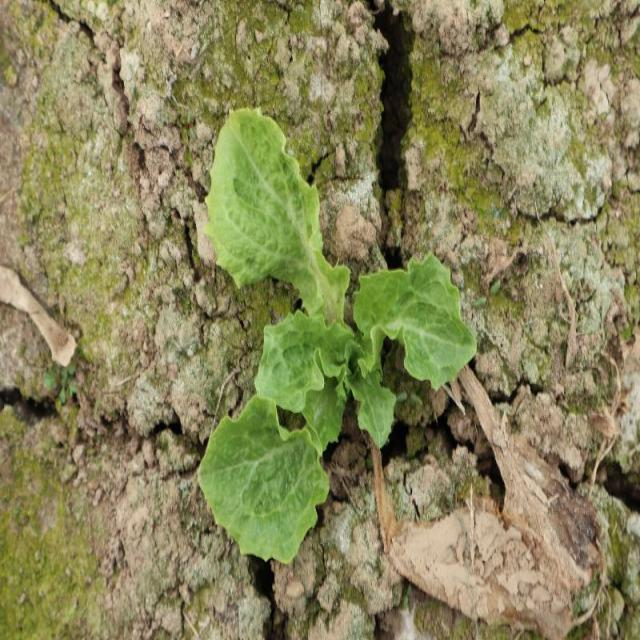crop: (196, 105, 480, 564)
